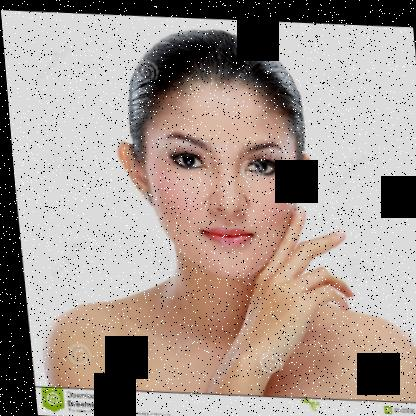Female: (109, 69, 318, 279)
